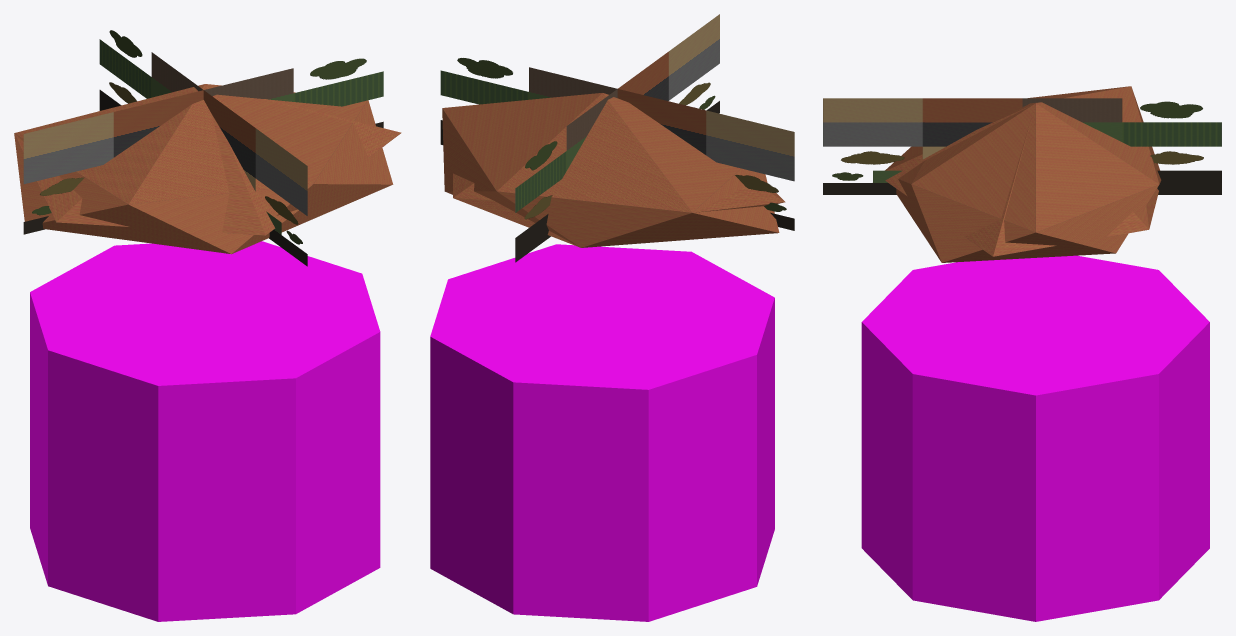
Rendered from rock_small_red_a.dae.
3 views of the same model, side by side, from view 1: azimuth 30°, elevation 25°; view 2: azimuth 150°, elevation 25°; view 3: azimuth 270°, elevation 25° (orthographic). The views are drawn at different scales.
Parts seen in each view (by area): view 1: Colmesh_rock-1, rock_small_red_a_a800, rock_small_red_a_a50, rock_small_red_a_a200; view 2: Colmesh_rock-1, rock_small_red_a_a800, rock_small_red_a_a50, rock_small_red_a_a200; view 3: Colmesh_rock-1, rock_small_red_a_a800, rock_small_red_a_a50, rock_small_red_a_a200.
Boxes of the visible parts, box(x1,y1,x2,y2) form: Colmesh_rock-1: box(30, 241, 380, 621); rock_small_red_a_a800: box(14, 84, 393, 254); rock_small_red_a_a50: box(23, 30, 383, 266); rock_small_red_a_a200: box(14, 85, 401, 235); Colmesh_rock-1: box(430, 244, 774, 621); rock_small_red_a_a800: box(442, 93, 779, 247); rock_small_red_a_a50: box(440, 14, 794, 262); rock_small_red_a_a200: box(453, 93, 785, 247); Colmesh_rock-1: box(861, 255, 1209, 621); rock_small_red_a_a800: box(886, 86, 1161, 262); rock_small_red_a_a50: box(823, 98, 1221, 194); rock_small_red_a_a200: box(885, 104, 1158, 256).
Bounding box in the file's own units: 0.5196 × 0.5158 × 0.6365.
Materials: 2 (1 with a texture image).
